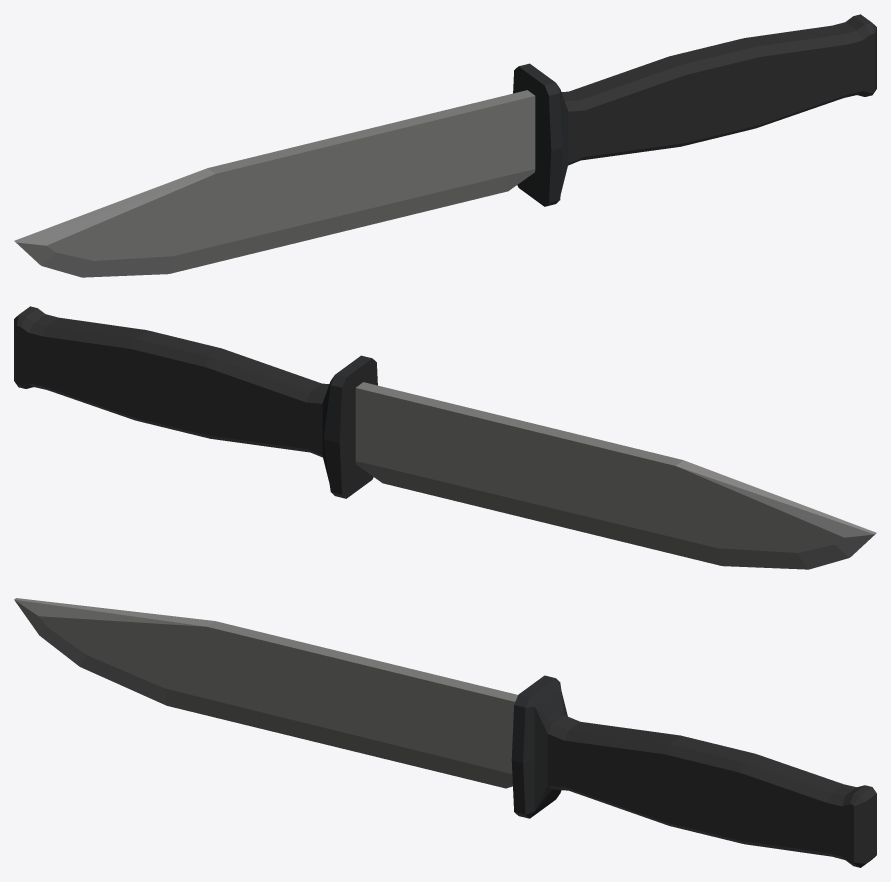
File: SM_Props_Interior_Shop_Gun_Knife_02.fbx
The picture shows the model from 3 angles, top to bottom: view 1: azimuth 30°, elevation 25°; view 2: azimuth 150°, elevation 25°; view 3: azimuth 330°, elevation 25°; orthographic projection.
Visible parts, largest first — view 1: SM_Props_Interior_Shop_Gun_Knife_02; view 2: SM_Props_Interior_Shop_Gun_Knife_02; view 3: SM_Props_Interior_Shop_Gun_Knife_02.
Boxes of the visible parts, <box> form: SM_Props_Interior_Shop_Gun_Knife_02: <box>14,14,876,277</box>; SM_Props_Interior_Shop_Gun_Knife_02: <box>14,306,876,569</box>; SM_Props_Interior_Shop_Gun_Knife_02: <box>14,598,876,867</box>.
Bounding box in the file's own units: 29.75 × 4.03 × 2.38.
